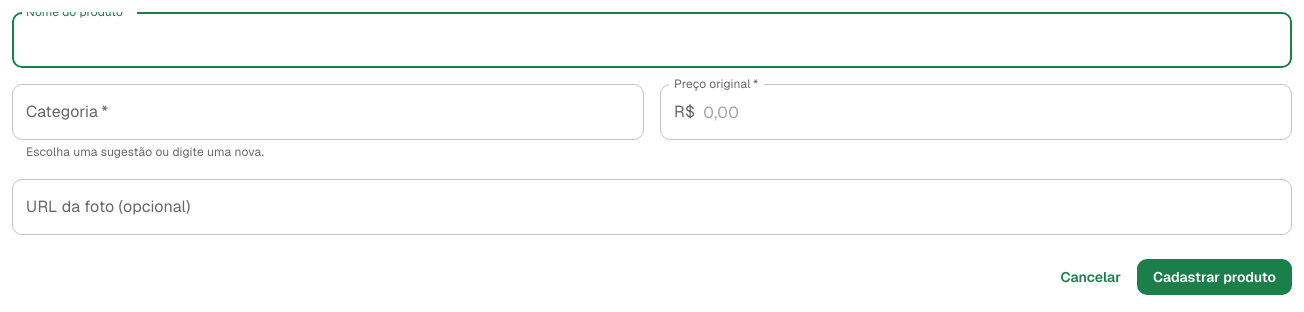
Test case: ProductForm › maps the backend's validation error back onto the price field
In the field labelled "Nome do produto *": x=652, y=40 left=12, top=12, right=1292, bottom=68, type "Pão de forma integral"
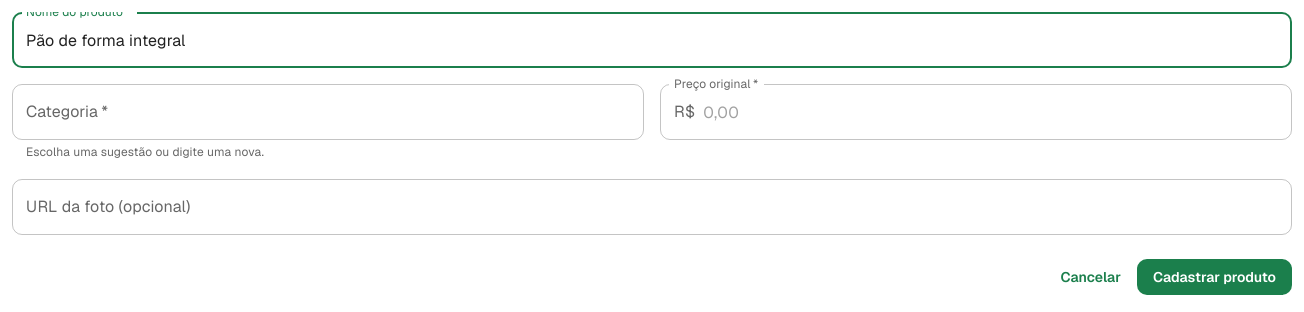
In the dropdown labelled "Categoria *": x=328, y=112 left=21, top=93, right=635, bottom=131, type "Padaria"
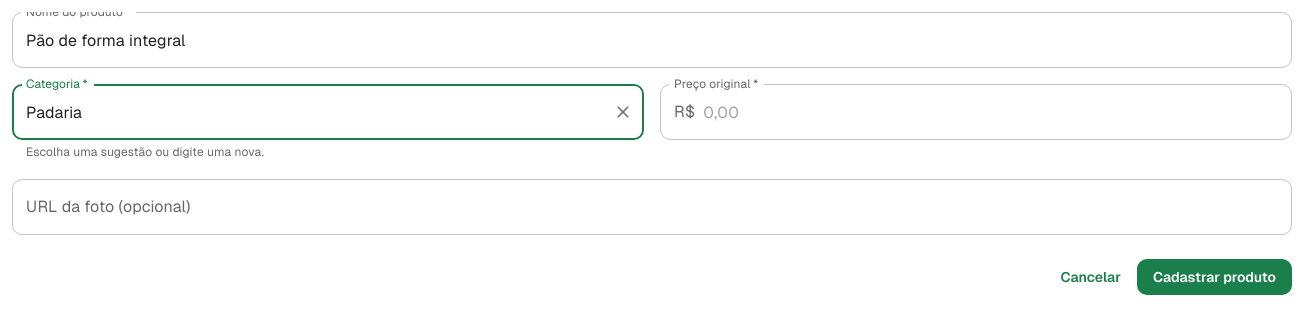
In the field labelled "Preço original *": x=998, y=112 left=703, top=84, right=1292, bottom=140, type "0,01"
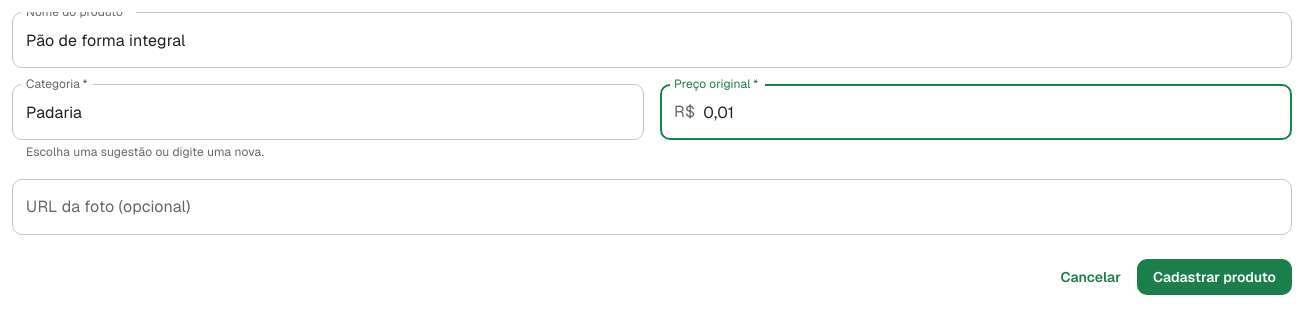
Click the button "Cadastrar produto": x=1214, y=277 left=1137, top=259, right=1292, bottom=295
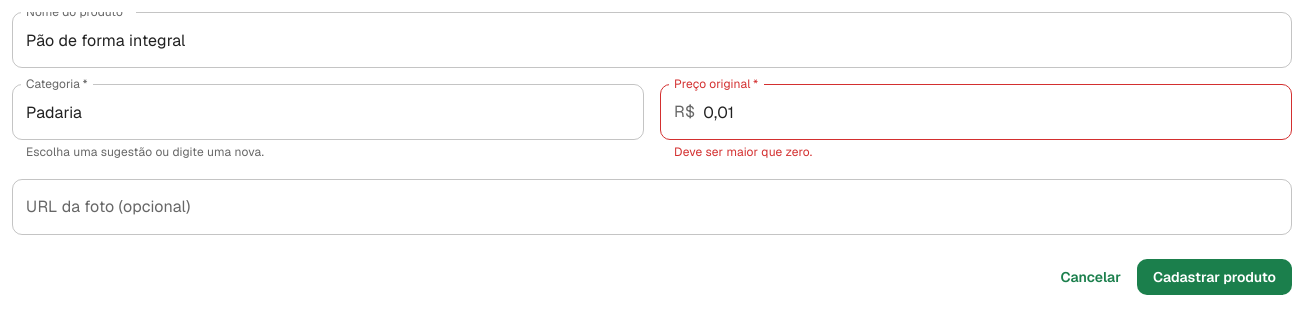
Result: the text "Deve ser maior que zero." is shown at left=674, top=144, right=812, bottom=160
